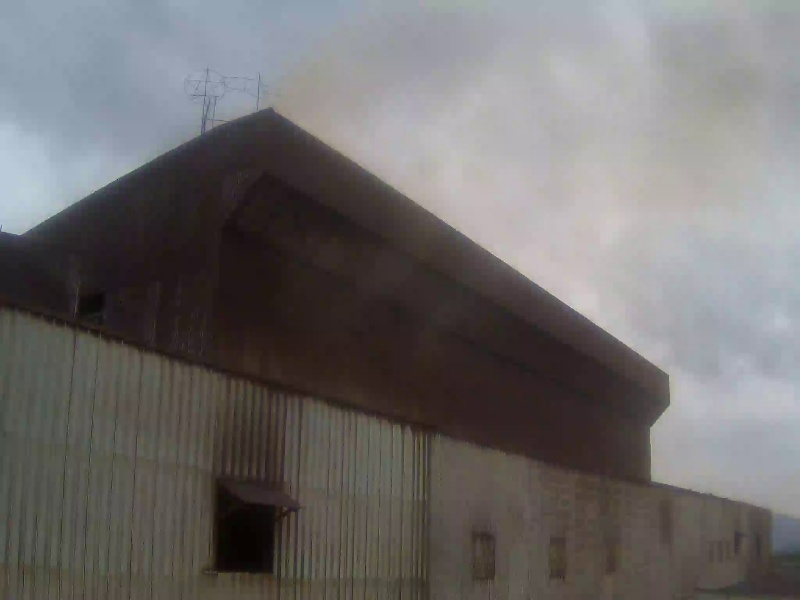Ruim: (281, 35, 749, 277)
